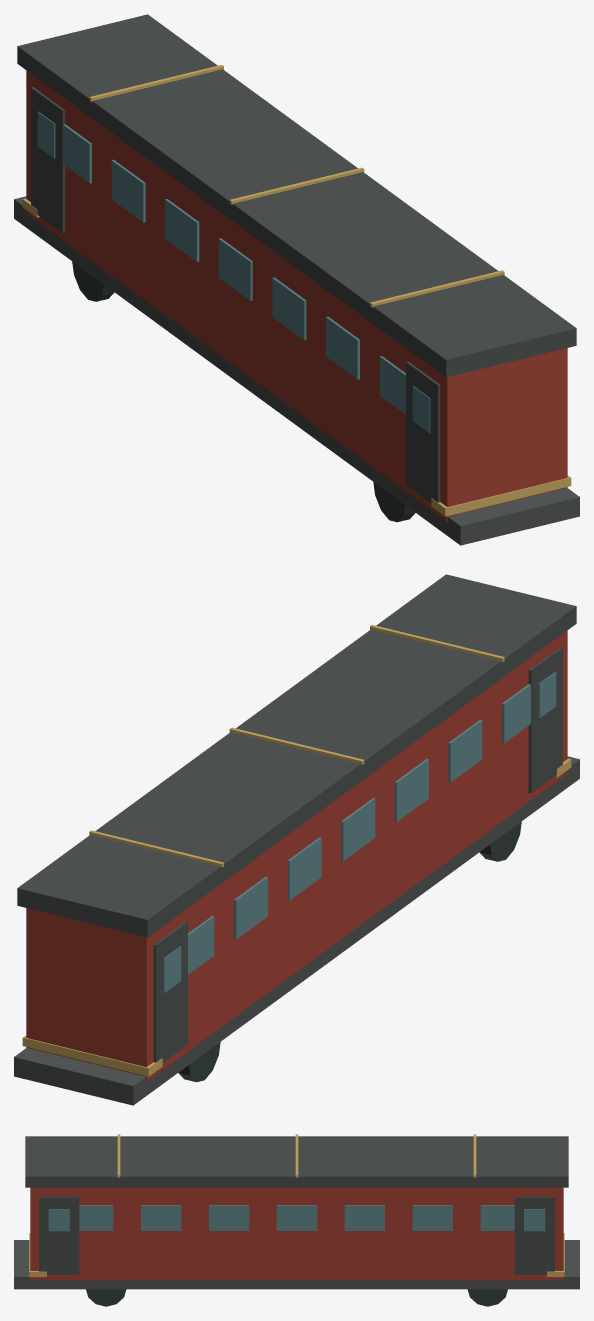
The model's file is fjord-passenger-coach_lod0.glb.
The picture shows the model from 3 angles, top to bottom: view 1: azimuth 30°, elevation 25°; view 2: azimuth 150°, elevation 25°; view 3: azimuth 270°, elevation 25°; orthographic projection. The views are drawn at different scales.
Parts seen in each view (by area): view 1: RF_Coach_Roof, RF_Coach_Body, RF_Coach_Chassis, RF_Coach_Door.001, RF_Coach_Door.002, RF_Coach_Window.003, RF_Coach_Window.005, RF_Coach_Window.006, RF_Coach_Window.004, RF_Coach_Window.002, RF_Coach_Platform.001, RF_Coach_Window.007 (+8 smaller); view 2: RF_Coach_Roof, RF_Coach_Body, RF_Coach_Chassis, RF_Coach_Door.002, RF_Coach_Door.001, RF_Coach_Window.005, RF_Coach_Window.002, RF_Coach_Window.003, RF_Coach_Window.004, RF_Coach_Window.006, RF_Coach_Platform, RF_Coach_Window.001 (+8 smaller); view 3: RF_Coach_Body, RF_Coach_Roof, RF_Coach_Chassis, RF_Coach_Door.003, RF_Coach_Door, RF_Coach_Window.011, RF_Coach_Window.009, RF_Coach_Window.010, RF_Coach_Window.012, RF_Coach_Window.013, RF_Coach_Window.008, RF_Coach_Window (+4 smaller).
Part boxes in pixels (left/top/right/bottom): RF_Coach_Roof: left=17, top=14, right=576, bottom=377; RF_Coach_Body: left=26, top=70, right=567, bottom=521; RF_Coach_Chassis: left=14, top=196, right=579, bottom=545; RF_Coach_Door.001: left=406, top=361, right=440, bottom=502; RF_Coach_Door.002: left=31, top=87, right=65, bottom=233; RF_Coach_Window.003: left=272, top=277, right=306, bottom=340; RF_Coach_Window.005: left=165, top=199, right=199, bottom=261; RF_Coach_Window.006: left=111, top=159, right=145, bottom=222; RF_Coach_Window.004: left=218, top=238, right=252, bottom=301; RF_Coach_Window.002: left=326, top=316, right=359, bottom=379; RF_Coach_Platform.001: left=431, top=475, right=571, bottom=516; RF_Coach_Window.007: left=63, top=124, right=91, bottom=183; RF_Coach_Roof: left=17, top=574, right=576, bottom=937; RF_Coach_Body: left=26, top=630, right=567, bottom=1081; RF_Coach_Chassis: left=14, top=756, right=579, bottom=1105; RF_Coach_Door.002: left=153, top=921, right=187, bottom=1062; RF_Coach_Door.001: left=528, top=647, right=562, bottom=793; RF_Coach_Window.005: left=287, top=837, right=321, bottom=900; RF_Coach_Window.002: left=448, top=719, right=482, bottom=782; RF_Coach_Window.003: left=394, top=759, right=428, bottom=821; RF_Coach_Window.004: left=341, top=798, right=375, bottom=861; RF_Coach_Window.006: left=234, top=876, right=267, bottom=939; RF_Coach_Platform: left=22, top=1035, right=162, bottom=1076; RF_Coach_Window.001: left=502, top=684, right=530, bottom=743; RF_Coach_Body: left=30, top=1187, right=563, bottom=1280; RF_Coach_Roof: left=25, top=1136, right=568, bottom=1187; RF_Coach_Chassis: left=14, top=1240, right=579, bottom=1289; RF_Coach_Door.003: left=39, top=1196, right=79, bottom=1274; RF_Coach_Door: left=514, top=1196, right=554, bottom=1274; RF_Coach_Window.011: left=276, top=1205, right=317, bottom=1230; RF_Coach_Window.009: left=141, top=1205, right=181, bottom=1230; RF_Coach_Window.010: left=209, top=1205, right=249, bottom=1230; RF_Coach_Window.012: left=344, top=1205, right=384, bottom=1230; RF_Coach_Window.013: left=412, top=1205, right=452, bottom=1230; RF_Coach_Window.008: left=79, top=1205, right=113, bottom=1230; RF_Coach_Window: left=480, top=1205, right=514, bottom=1230.
Size of the model in its own units: 3 by 4.57 by 17.5.
